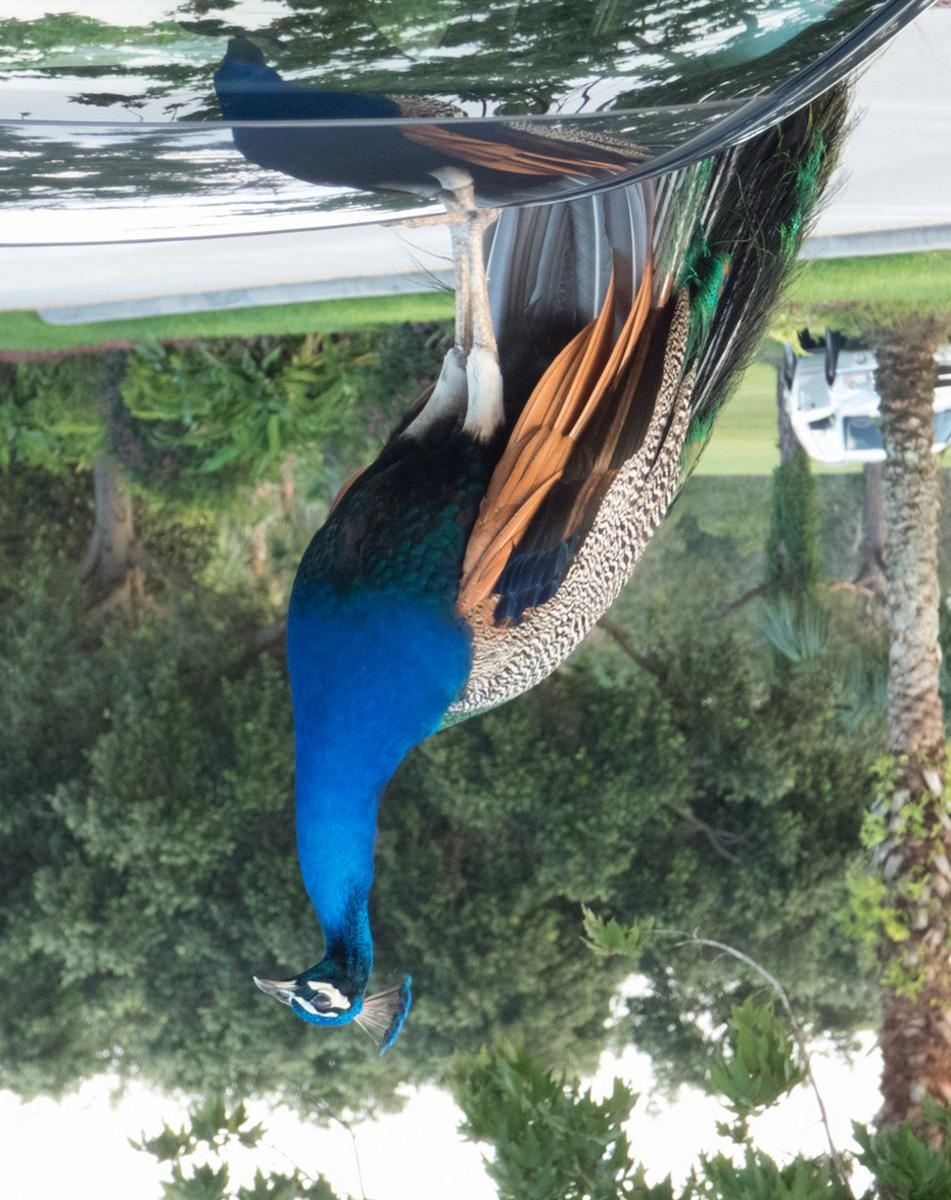peacock: (224, 34, 870, 1062)
